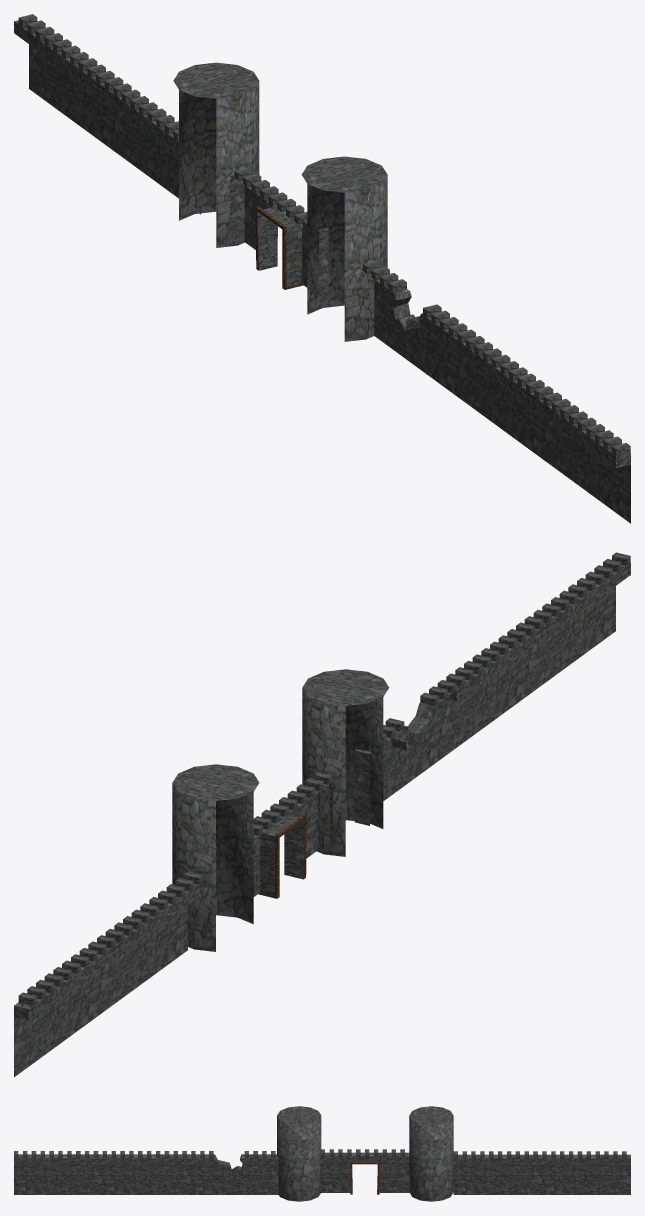
File: wall.glb
The picture shows the model from 3 angles, top to bottom: view 1: azimuth 30°, elevation 25°; view 2: azimuth 150°, elevation 25°; view 3: azimuth 270°, elevation 25°; orthographic projection. The views are drawn at different scales.
Visible parts, largest first — view 1: Gate_2x4.005; view 2: Gate_2x4.005; view 3: Gate_2x4.005.
Part boxes in pixels (x1=…): Gate_2x4.005: x1=14, y1=14, x2=630, y2=523; Gate_2x4.005: x1=14, y1=552, x2=630, y2=1077; Gate_2x4.005: x1=14, y1=1106, x2=630, y2=1201.
Bounding box in the file's own units: 4 × 7.76 × 55.66.
8 materials, 8 textured.
